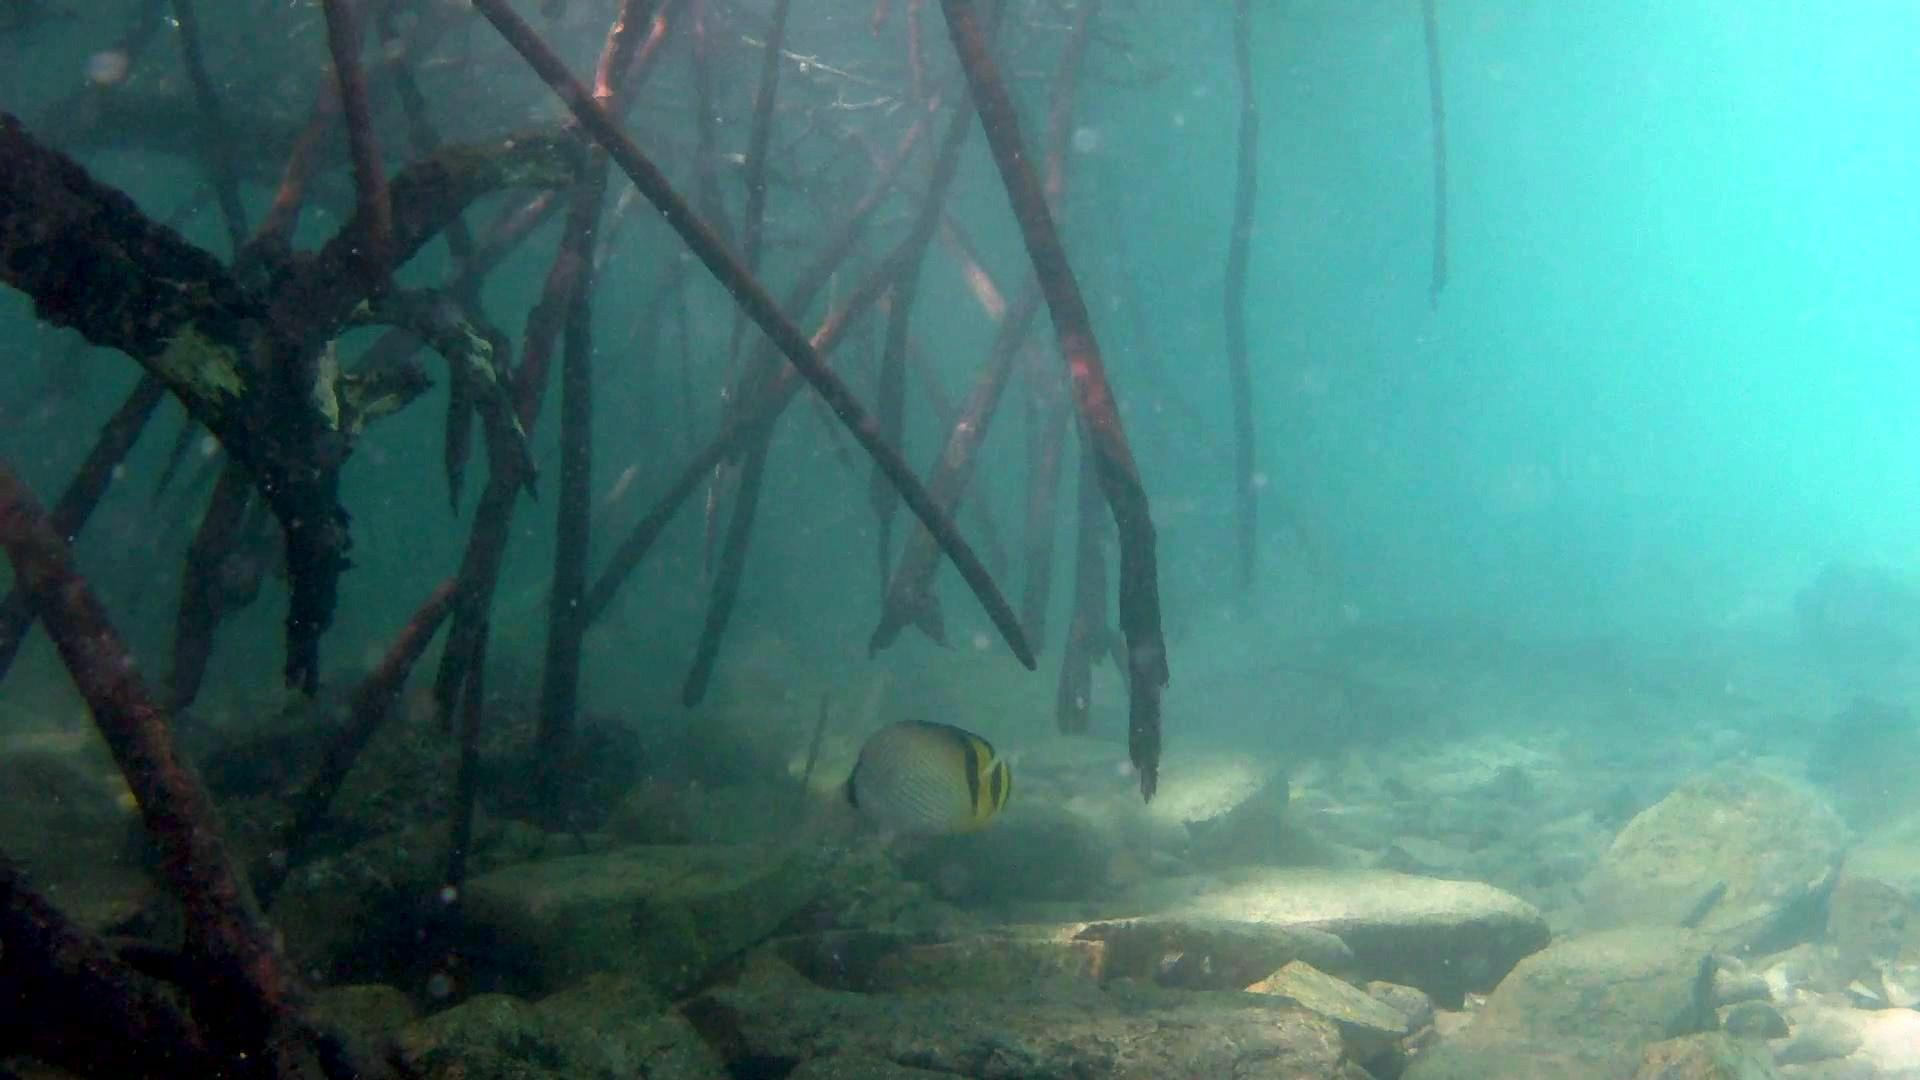chaetodon vagabundus: (824, 715, 1017, 843)
